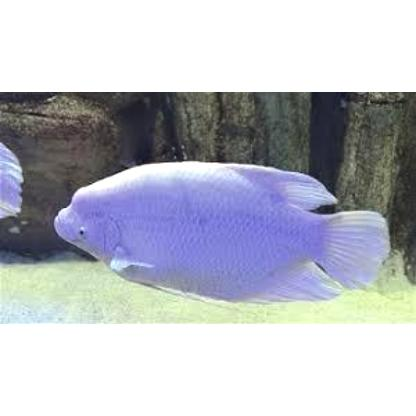gurame: (57, 160, 381, 304)
